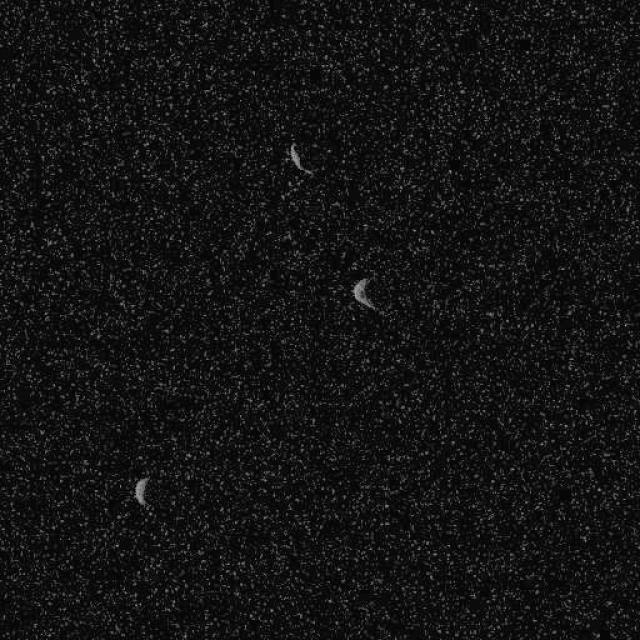D2: (286, 142, 314, 176), (352, 275, 376, 311), (132, 475, 150, 507)
